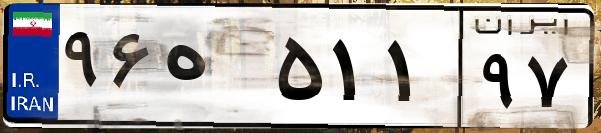1: (385, 28, 445, 110), (330, 28, 385, 110)
5: (270, 28, 330, 110)
6: (110, 28, 158, 98)
7: (525, 38, 570, 115)
9: (57, 26, 110, 100), (475, 38, 525, 113)
ه: (158, 20, 270, 120)
